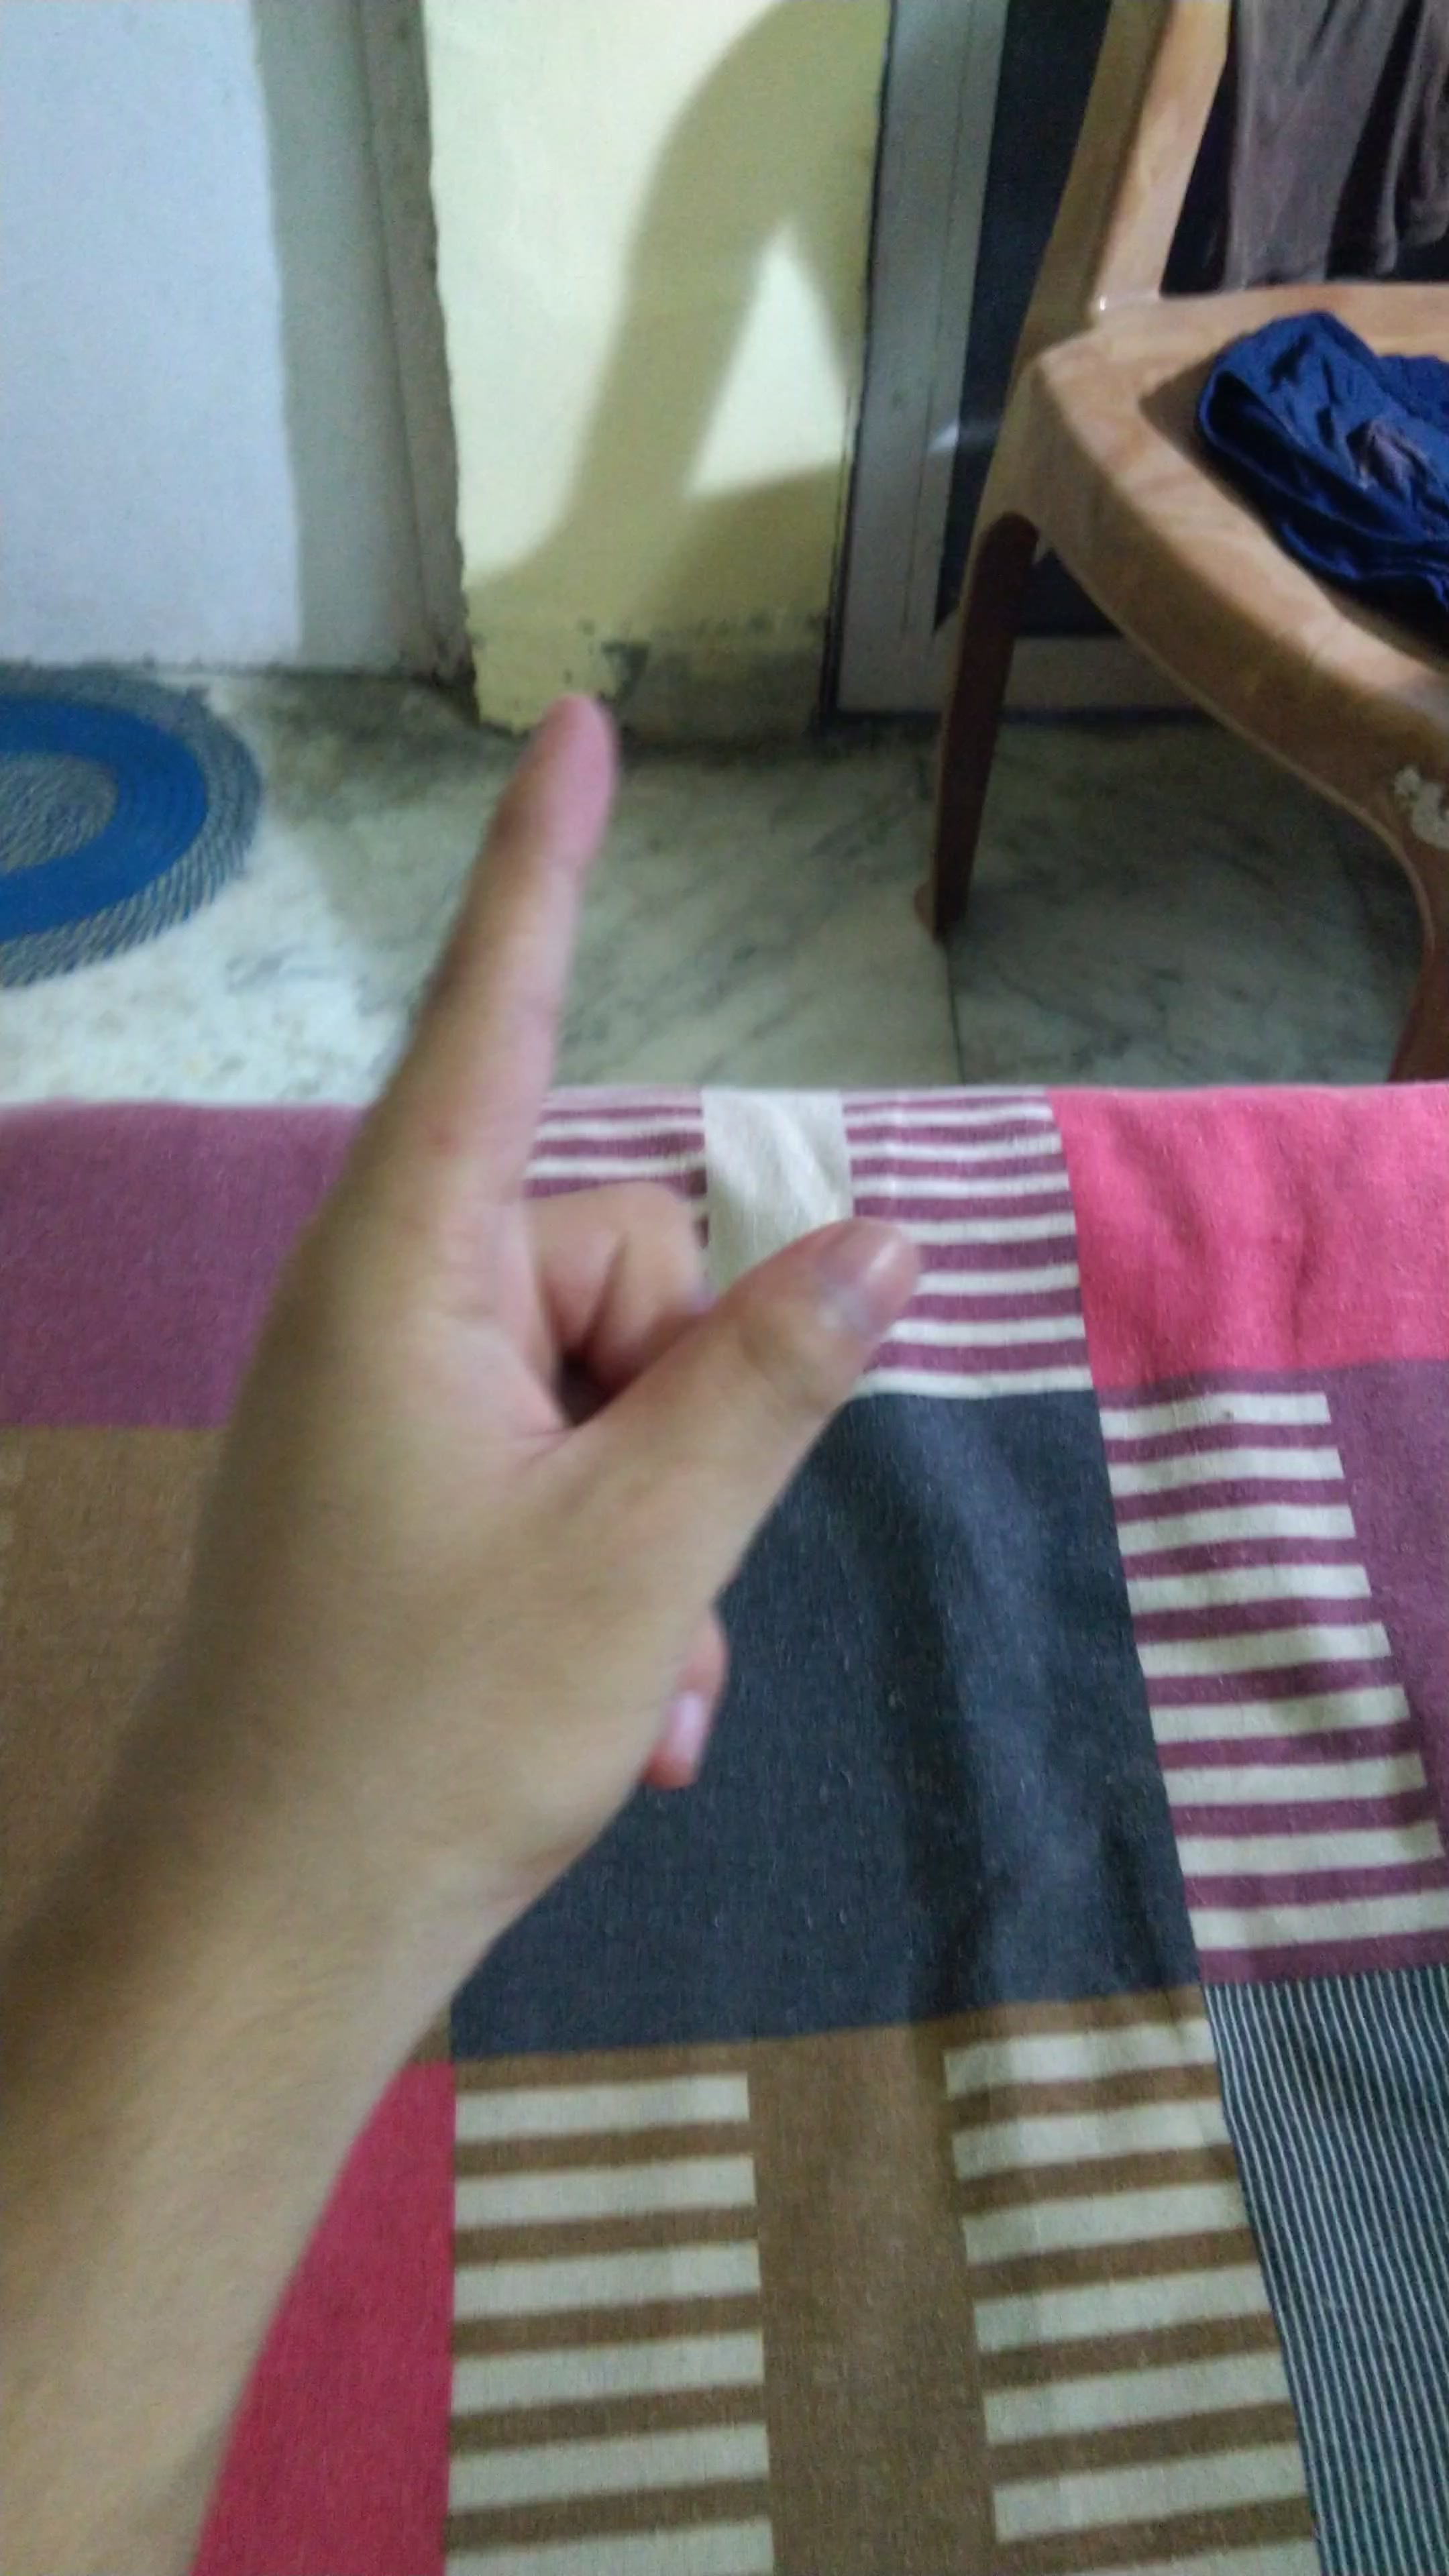hand: (103, 655, 996, 1895)
